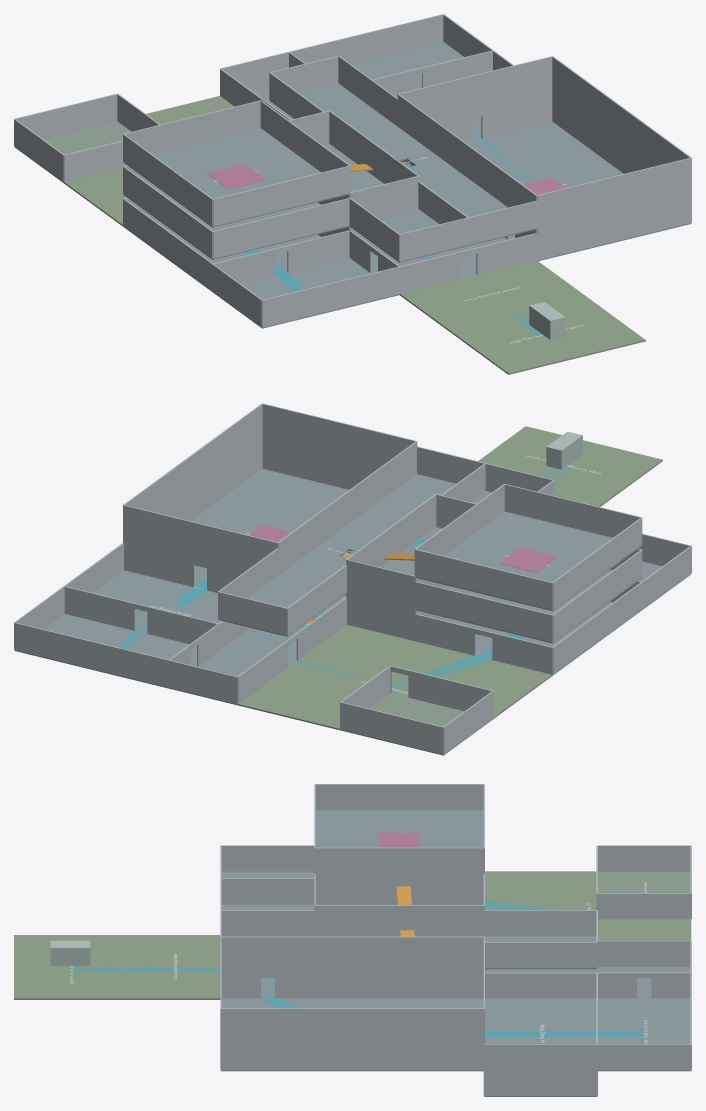
File: rough-shell.glb
The picture shows the model from 3 angles, top to bottom: view 1: azimuth 30°, elevation 25°; view 2: azimuth 150°, elevation 25°; view 3: azimuth 270°, elevation 25°; orthographic projection. The views are drawn at different scales.
Visible parts, largest first — view 1: Wall ballroom S, Floor stage, Wall ballroom E, Floor entry, Floor ballroom, Wall ballroom N.001, Floor garden, Wall servants E, Wall attic S, Wall suite S, Wall drawing S, Wall scullery N (+53 smaller); view 2: Floor garden, Wall ballroom S, Wall ballroom E, Floor stage, Floor ballroom, Wall ballroom N.001, Wall stair N, Wall servants E, Wall scullery N, Wall suite N, Wall attic N, Wall attic S (+52 smaller); view 3: Wall ballroom E, Wall ballroom W, Floor garden, Floor stage, Floor entry, Wall service E.001, Wall servants E, Floor dining, Wall attic E, Wall attic W, Floor scullery, Floor ballroom (+32 smaller).
Boxes of the visible parts, x1,y1,x2,y2 form: Wall ballroom S: (537, 158, 691, 260); Floor stage: (449, 296, 645, 374); Wall ballroom E: (552, 56, 691, 221); Floor entry: (399, 260, 585, 330); Floor ballroom: (466, 121, 691, 261); Wall ballroom N.001: (481, 56, 552, 138); Floor garden: (15, 96, 233, 226); Wall servants E: (338, 56, 533, 207); Wall attic S: (212, 166, 350, 226); Wall suite S: (212, 198, 349, 258); Wall drawing S: (262, 266, 399, 327); Wall scullery N: (289, 14, 443, 63); Floor garden: (237, 624, 552, 755); Wall ballroom S: (262, 403, 416, 489); Wall ballroom E: (123, 403, 262, 542); Floor stage: (478, 426, 662, 503); Floor ballroom: (191, 468, 348, 586); Wall ballroom N.001: (123, 505, 194, 586); Wall stair N: (346, 559, 415, 640); Wall servants E: (218, 449, 416, 618); Wall scullery N: (14, 622, 168, 687); Wall suite N: (415, 581, 552, 642); Wall attic N: (415, 549, 552, 609); Wall attic S: (504, 484, 641, 537); Wall ballroom E: (221, 1008, 484, 1070); Wall ballroom W: (275, 936, 483, 998); Floor garden: (485, 871, 691, 940); Floor stage: (14, 935, 126, 999); Floor entry: (127, 935, 220, 999); Wall service E.001: (315, 972, 636, 998); Wall servants E: (221, 942, 597, 967); Floor dining: (485, 998, 596, 1043); Wall attic E: (315, 847, 484, 873); Wall attic W: (315, 784, 483, 810); Floor scullery: (597, 998, 691, 1071); Floor ballroom: (221, 998, 484, 1071).
Bounding box in the file's own units: 50.16 × 13.36 × 72.08.
